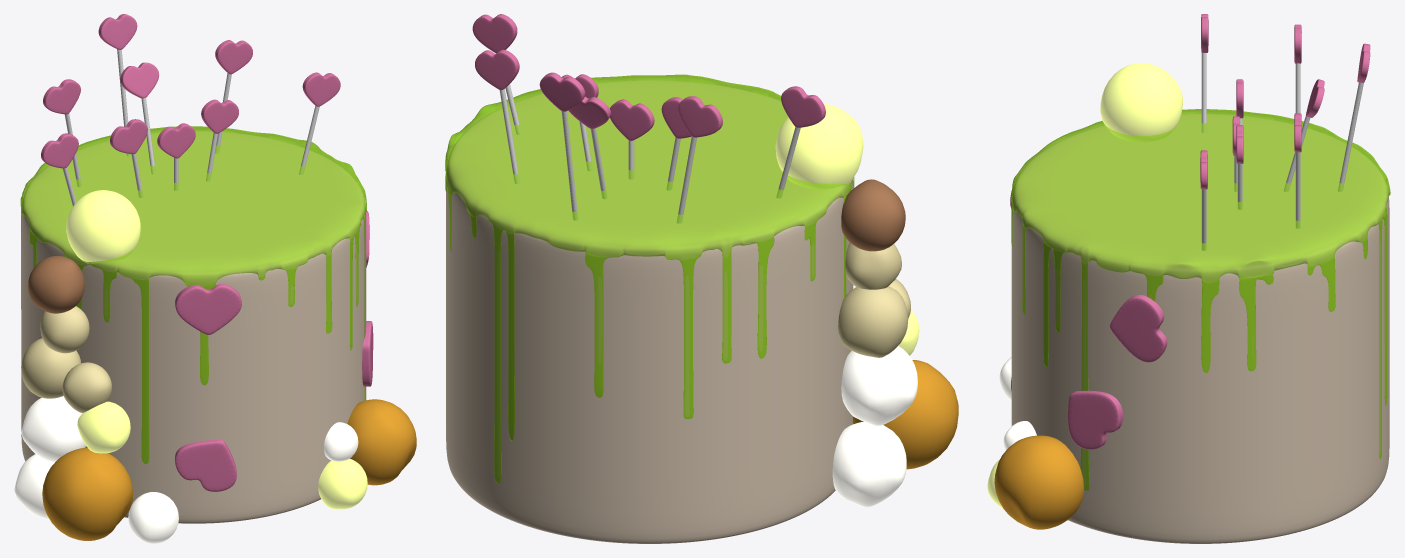
The model's file is Cake_Layer_1_Cream_Topper1_Hearts_GreenDrip.glb.
3 views of the same model, side by side, from view 1: azimuth 30°, elevation 25°; view 2: azimuth 150°, elevation 25°; view 3: azimuth 270°, elevation 25° (orthographic). The views are drawn at different scales.
Parts seen in each view (by area): view 1: Circle, Circle.001, Sphere, Sphere.015, Sphere.026, Sphere.002, Sphere.006, Star.003, Star.002, Sphere.005, Sphere.003, Sphere.001 (+15 smaller); view 2: Circle, Circle.001, Sphere.015, Sphere.013, Sphere.002, Sphere, Sphere.005, Sphere.006, Sphere.010, Star.006, Star.005, Star.009 (+6 smaller); view 3: Circle, Circle.001, Sphere.026, Sphere.015, Star.001, Star.004, Cylinder.049, Sphere.027.
Part boxes in pixels (<box>): Circle: <box>21,131,366,523</box>; Circle.001: <box>20,126,366,463</box>; Sphere: <box>42,448,132,540</box>; Sphere.015: <box>66,190,140,263</box>; Sphere.026: <box>347,399,416,485</box>; Sphere.002: <box>21,396,85,462</box>; Sphere.006: <box>28,256,84,313</box>; Star.003: <box>175,284,241,334</box>; Star.002: <box>175,439,236,491</box>; Sphere.005: <box>21,338,80,398</box>; Sphere.003: <box>77,401,130,453</box>; Sphere.001: <box>128,492,178,543</box>; Circle: <box>446,80,853,543</box>; Circle.001: <box>445,74,854,483</box>; Sphere.015: <box>775,104,863,189</box>; Sphere.013: <box>832,421,906,507</box>; Sphere.002: <box>841,346,917,426</box>; Sphere: <box>853,360,958,469</box>; Sphere.005: <box>838,286,908,357</box>; Sphere.006: <box>841,179,905,251</box>; Sphere.010: <box>845,242,901,289</box>; Star.006: <box>678,96,722,137</box>; Star.005: <box>781,86,825,127</box>; Star.009: <box>475,49,519,90</box>; Circle: <box>1011,114,1389,543</box>; Circle.001: <box>1010,109,1390,490</box>; Sphere.026: <box>994,435,1083,529</box>; Sphere.015: <box>1100,63,1182,141</box>; Star.001: <box>1110,295,1167,362</box>; Star.004: <box>1068,390,1123,449</box>; Cylinder.049: <box>1338,82,1363,191</box>; Sphere.027: <box>1003,421,1036,450</box>.
Bounding box in the file's own units: 0.1763 × 0.1867 × 0.159.
